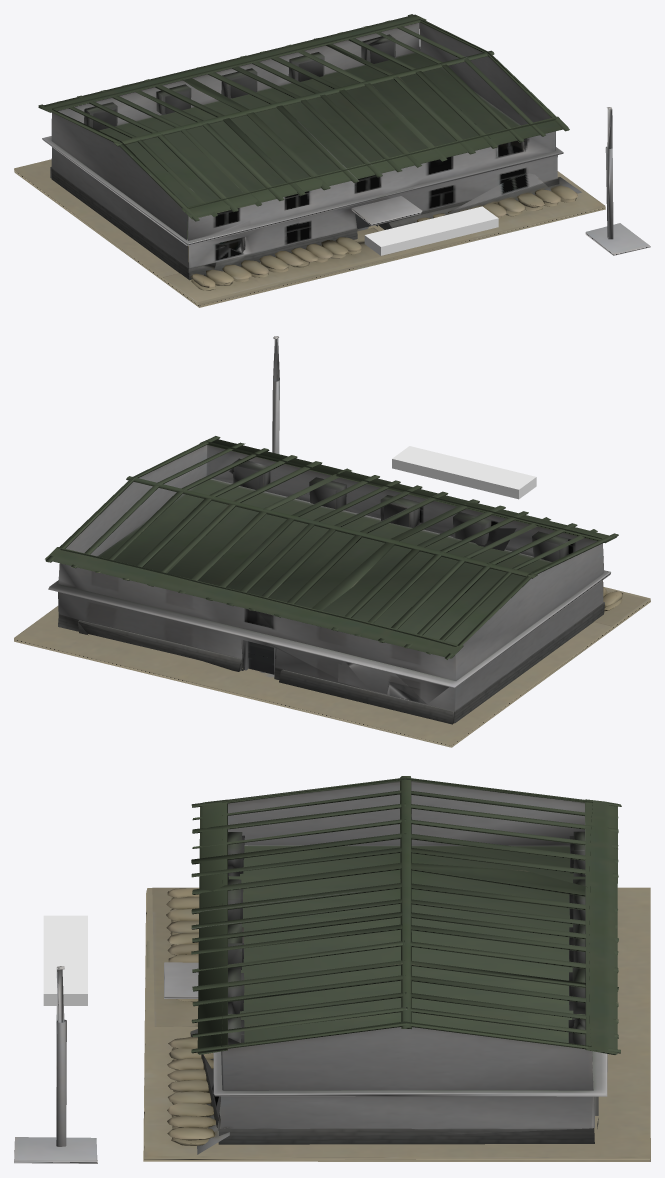
The model's file is cn-barracks.glb.
3 views of the same model, one above another, from view 1: azimuth 30°, elevation 25°; view 2: azimuth 150°, elevation 25°; view 3: azimuth 270°, elevation 25° (orthographic). The views are drawn at different scales.
Parts seen in each view (by area): view 1: cn-barracks; view 2: cn-barracks; view 3: cn-barracks.
Part boxes in pixels (<box>): cn-barracks: <box>14,14,650,307</box>; cn-barracks: <box>14,336,650,747</box>; cn-barracks: <box>14,776,650,1163</box>.
Bounding box in the file's own units: 2.58 × 0.81 × 2.58.
2 materials, 1 textured.
